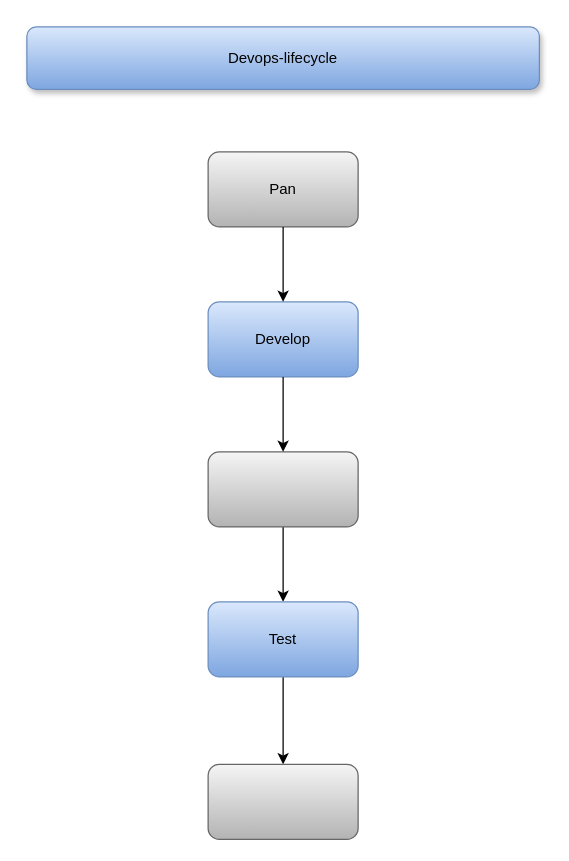
Some shapes in this 569 by 861 pixel diagram are drawn without their labels. Here are the shapes that lost their labels. From the top down, the centre of each, then its label:
At point (282, 489): "Build".
At point (282, 801): "Release".
